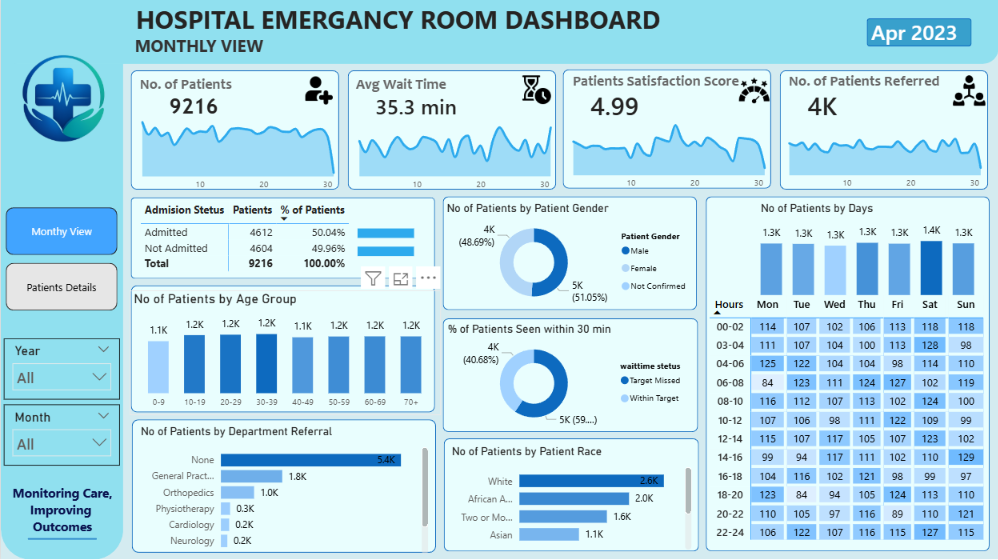

The dashboard page shown, as its layout file describes it:
{"tool":"powerbi","page":{"name":"Monthy View","canvas":[1280,720],"ordinal":0},"visuals":[{"type":"shape","box":[0,0,157.1,720],"z":0},{"type":"shape","box":[0,0,1279.7,84.1],"z":1000},{"type":"textbox","box":[168.6,0,971.4,128.6],"z":2000},{"type":"textbox","box":[167.1,41.4,232.9,41.4],"z":3000},{"type":"slicer","fields":{"Values":["Date Table.Month"]},"box":[4.3,520,148.6,78.6],"z":4000},{"type":"shape","box":[999.6,91.4,267.1,152.8],"z":5000,"group":"g1"},{"type":"shape","box":[167.2,92.9,267.1,152.8],"z":5000},{"type":"shape","box":[720.9,91.4,267.1,152.8],"z":6000},{"type":"cardVisual","fields":{"Data":["Hospital ER_Data.No of Patients Raferred"]},"box":[1006.1,103.9,148.2,64.1],"z":7000,"group":"g1"},{"type":"shape","box":[167.1,255.7,390,104.3],"z":7000},{"type":"textbox","box":[1005.7,89.4,238.6,45.7],"z":8000,"group":"g1"},{"type":"cardVisual","fields":{"Data":["Hospital ER_Data.No of Patients"]},"box":[173.7,105.3,148.2,64.1],"z":8000},{"type":"shape","box":[444.4,92.9,267.1,152.8],"z":9000},{"type":"areaChart","fields":{"Category":["Date Table.Date.Variation.Date Hierarchy.Day"],"Y":["Hospital ER_Data.No of Patients Raferred"]},"box":[996.7,139.4,267.1,114.3],"z":9000,"group":"g1"},{"type":"cardVisual","fields":{"Data":["Avg(Hospital ER_Data.Patient Satisfaction Score)"]},"box":[727.3,103.8,148.2,64.1],"z":10000},{"type":"textbox","box":[173.4,93.2,162.7,44],"z":11000},{"type":"shape","box":[1110,25.7,134.3,35.7],"z":12000},{"type":"textbox","box":[728.8,89.4,271.4,45.7],"z":13000},{"type":"areaChart","fields":{"Category":["Date Table.Date.Variation.Date Hierarchy.Day"],"Y":["Hospital ER_Data.No of Patients"]},"box":[167.1,140,267.1,115.7],"z":14000},{"type":"cardVisual","fields":{"Data":["Min(Date Table.Month and Year)"]},"box":[1104.3,12.9,175.7,57.1],"z":15000},{"type":"areaChart","fields":{"Category":["Date Table.Date.Variation.Date Hierarchy.Day"],"Y":["Sum(Hospital ER_Data.Patient Satisfaction Score)"]},"box":[719.4,139.4,267.1,114.3],"z":16000},{"type":"cardVisual","fields":{"Data":["Hospital ER_Data.Avg Wait time"]},"box":[451.4,105.7,171.4,64.3],"z":17000},{"type":"textbox","box":[450.6,93.2,162.7,44],"z":18000},{"type":"areaChart","fields":{"Category":["Date Table.Date.Variation.Date Hierarchy.Day"],"Y":["Avg(Hospital ER_Data.Patient Waittime)"]},"box":[444.3,141.4,267.1,114.3],"z":19000},{"type":"group","id":"g1","title":"Group 1","box":[996.7,89.4,270,164.3],"z":20000},{"type":"pivotTable","fields":{"Rows":["Hospital ER_Data.Admision Stetus"],"Values":["Hospital ER_Data.No of Patients","Divide(Hospital ER_Data.No of Patients, ScopedEval(Hospital ER_Data.No of Patients, []))"]},"box":[174.3,255.7,278.6,111.4],"z":21000},{"type":"barChart","fields":{"Category":["Hospital ER_Data.Admision Stetus"],"Y":["Hospital ER_Data.No of Patients"]},"box":[452.9,270,104.3,78.6],"z":22000},{"type":"shape","box":[167.1,368.6,390,162.9],"z":23000},{"type":"columnChart","fields":{"Category":["Hospital ER_Data.Age Group"],"Y":["Hospital ER_Data.No of Patients"]},"box":[165.7,374.3,398.6,160],"z":24000},{"type":"shape","box":[168.2,540,390,170.9],"z":25000},{"type":"shape","box":[567.1,254.3,325.7,145.7],"z":26000},{"type":"barChart","fields":{"Y":["Hospital ER_Data.No of Patients"],"Category":["Hospital ER_Data.Department Referral"]},"box":[174.3,545.7,378.6,171.4],"z":27000},{"type":"donutChart","fields":{"Category":["Hospital ER_Data.Patient Gender"],"Y":["Hospital ER_Data.No of Patients"]},"box":[567.1,260,325.7,140],"z":28000},{"type":"shape","box":[567.1,410,327.1,145.7],"z":29000},{"type":"donutChart","title":"% of Patients Seen within 30 min","fields":{"Y":["Hospital ER_Data.No of Patients"],"Category":["Hospital ER_Data.waittime stetus"]},"box":[568.6,415.7,324.3,140],"z":30000},{"type":"shape","box":[568,564,327,145],"z":31000},{"type":"barChart","fields":{"Y":["Hospital ER_Data.No of Patients"],"Category":["Hospital ER_Data.Patient Race"]},"box":[572.5,571.2,317.5,140],"z":32000},{"type":"shape","box":[903.8,253.8,363.8,455],"z":33000},{"type":"pivotTable","fields":{"Values":["Hospital ER_Data.No of Patients"],"Rows":["Hospital ER_Data.Wait time interval"],"Columns":["Date Table.Days"]},"box":[904.3,375.7,370,344.3],"z":34000},{"type":"columnChart","fields":{"Y":["Hospital ER_Data.No of Patients"],"Category":["Date Table.Days"]},"box":[968.8,260,285,126.2],"z":35000},{"type":"pageNavigator","box":[6,267.8,143.6,132.7],"z":36000},{"type":"slicer","fields":{"Values":["Date Table.Year"]},"box":[4.3,435.7,148.6,78.6],"z":37000},{"type":"image","box":[387.1,100,41.4,35.7],"z":38000},{"type":"image","box":[665.7,98.6,42.9,37.1],"z":39000},{"type":"image","box":[941.4,97.1,50,41.4],"z":40000},{"type":"image","box":[1217.1,97.1,50,41.4],"z":41000},{"type":"image","box":[0,44.3,157.1,165.7],"z":41001},{"type":"textbox","box":[2.9,618.6,152.9,91.4],"z":41002},{"type":"shape","box":[34.6,674.4,88.5,37.2],"z":41003}]}

Visuals, with their boxes in screenshot pixels (x1, y1, x2, y2), scaled from the page's 1280x720 canvas onto the 998x560 screenshot:
shape: select_region(0, 0, 122, 559)
shape: select_region(0, 0, 997, 65)
textbox: select_region(131, 0, 889, 100)
textbox: select_region(130, 32, 312, 64)
slicer - Date Table.Month: select_region(3, 404, 119, 466)
shape: select_region(779, 71, 988, 190)
shape: select_region(130, 72, 339, 191)
shape: select_region(562, 71, 770, 190)
cardVisual - Hospital ER_Data.No of Patients Raferred: select_region(784, 81, 900, 131)
shape: select_region(130, 199, 434, 280)
textbox: select_region(784, 70, 970, 105)
cardVisual - Hospital ER_Data.No of Patients: select_region(135, 82, 251, 132)
shape: select_region(346, 72, 555, 191)
areaChart - Date Table.Date.Variation.Date Hierarchy.Day x Hospital ER_Data.No of Patients Raferred: select_region(777, 108, 985, 197)
cardVisual - Avg(Hospital ER_Data.Patient Satisfaction Score): select_region(567, 81, 683, 131)
textbox: select_region(135, 72, 262, 107)
shape: select_region(865, 20, 970, 48)
textbox: select_region(568, 70, 780, 105)
areaChart - Date Table.Date.Variation.Date Hierarchy.Day x Hospital ER_Data.No of Patients: select_region(130, 109, 339, 199)
cardVisual - Min(Date Table.Month and Year): select_region(861, 10, 997, 54)
areaChart - Date Table.Date.Variation.Date Hierarchy.Day x Sum(Hospital ER_Data.Patient Satisfaction Score): select_region(561, 108, 769, 197)
cardVisual - Hospital ER_Data.Avg Wait time: select_region(352, 82, 486, 132)
textbox: select_region(351, 72, 478, 107)
areaChart - Date Table.Date.Variation.Date Hierarchy.Day x Avg(Hospital ER_Data.Patient Waittime): select_region(346, 110, 555, 199)
"Group 1" group: select_region(777, 70, 988, 197)
pivotTable - Hospital ER_Data.Admision Stetus x Hospital ER_Data.No of Patients: select_region(136, 199, 353, 286)
barChart - Hospital ER_Data.Admision Stetus x Hospital ER_Data.No of Patients: select_region(353, 210, 434, 271)
shape: select_region(130, 287, 434, 413)
columnChart - Hospital ER_Data.Age Group x Hospital ER_Data.No of Patients: select_region(129, 291, 440, 416)
shape: select_region(131, 420, 435, 553)
shape: select_region(442, 198, 696, 311)
barChart - Hospital ER_Data.No of Patients x Hospital ER_Data.Department Referral: select_region(136, 424, 431, 558)
donutChart - Hospital ER_Data.Patient Gender x Hospital ER_Data.No of Patients: select_region(442, 202, 696, 311)
shape: select_region(442, 319, 697, 432)
"% of Patients Seen within 30 min" donutChart: select_region(443, 323, 696, 432)
shape: select_region(443, 439, 698, 551)
barChart - Hospital ER_Data.No of Patients x Hospital ER_Data.Patient Race: select_region(446, 444, 694, 553)
shape: select_region(705, 197, 988, 551)
pivotTable - Hospital ER_Data.No of Patients x Hospital ER_Data.Wait time interval: select_region(705, 292, 994, 559)
columnChart - Hospital ER_Data.No of Patients x Date Table.Days: select_region(755, 202, 978, 300)
pageNavigator: select_region(5, 208, 117, 312)
slicer - Date Table.Year: select_region(3, 339, 119, 400)
image: select_region(302, 78, 334, 106)
image: select_region(519, 77, 552, 106)
image: select_region(734, 76, 773, 108)
image: select_region(949, 76, 988, 108)
image: select_region(0, 34, 122, 163)
textbox: select_region(2, 481, 121, 552)
shape: select_region(27, 525, 96, 553)
